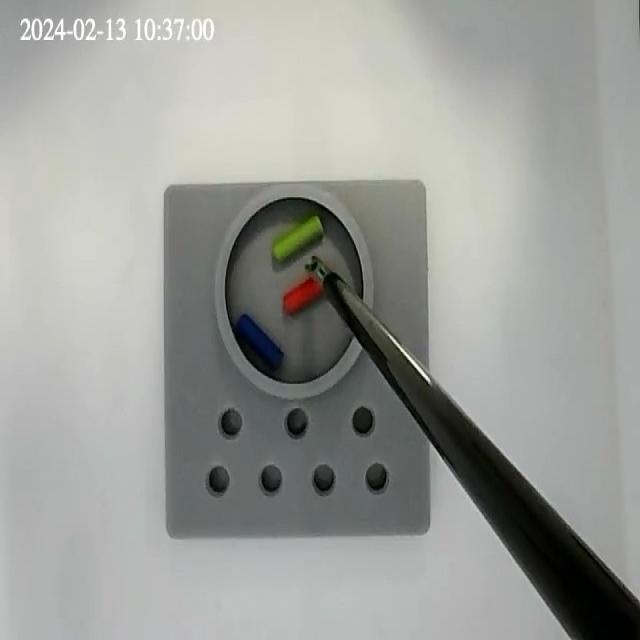EmptyHole: (205, 461, 232, 499), (284, 404, 311, 440), (364, 460, 389, 495), (218, 405, 242, 441), (312, 461, 336, 495), (352, 403, 375, 438), (260, 464, 283, 495)
